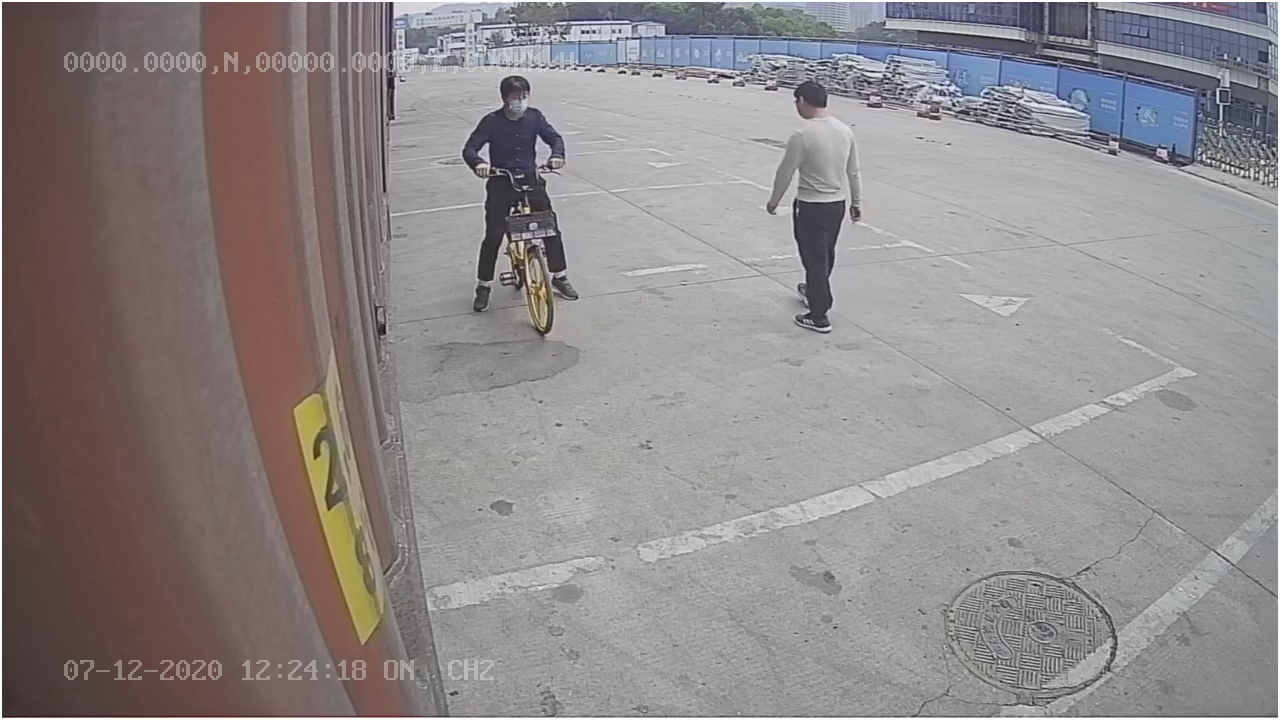person: (757, 76, 868, 339)
